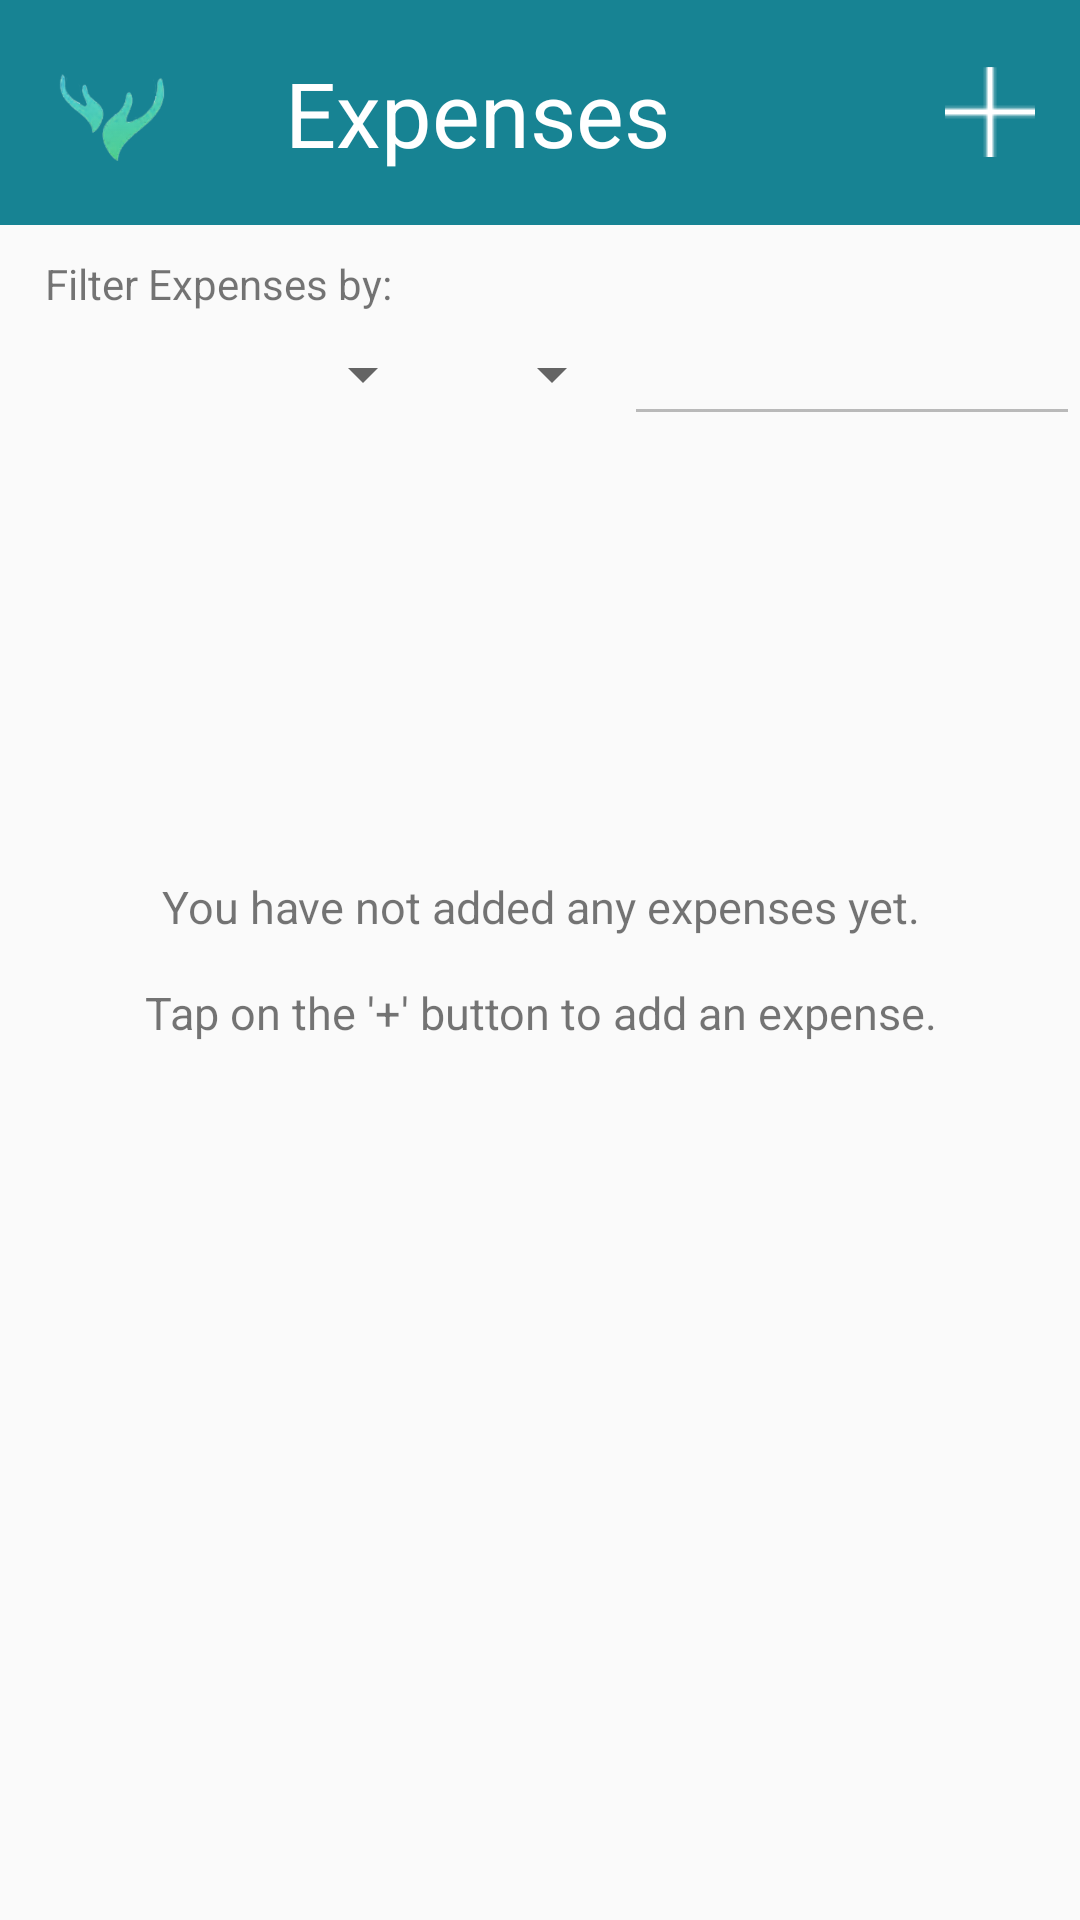

Icons on this 1080 x 1920 Android screen, each with its box as (x1, y1, x2, y2):
plus: (945, 67, 1035, 157)
